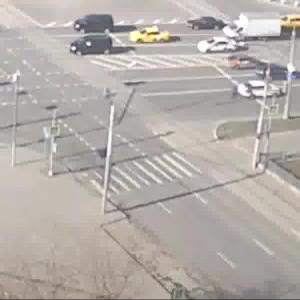car: (225, 13, 281, 43), (252, 63, 300, 83), (72, 37, 116, 58), (241, 79, 284, 99), (76, 14, 114, 34), (128, 29, 175, 45), (185, 15, 227, 32), (201, 38, 236, 54), (277, 10, 300, 31), (231, 58, 260, 70)
